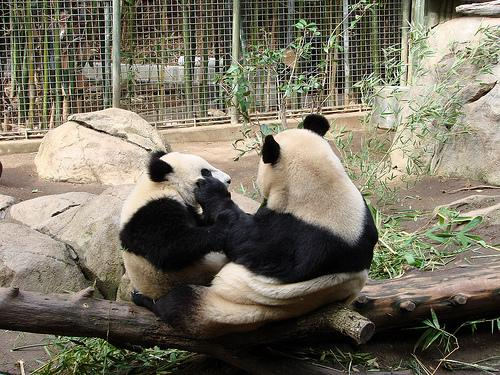panda: (119, 114, 377, 335)
